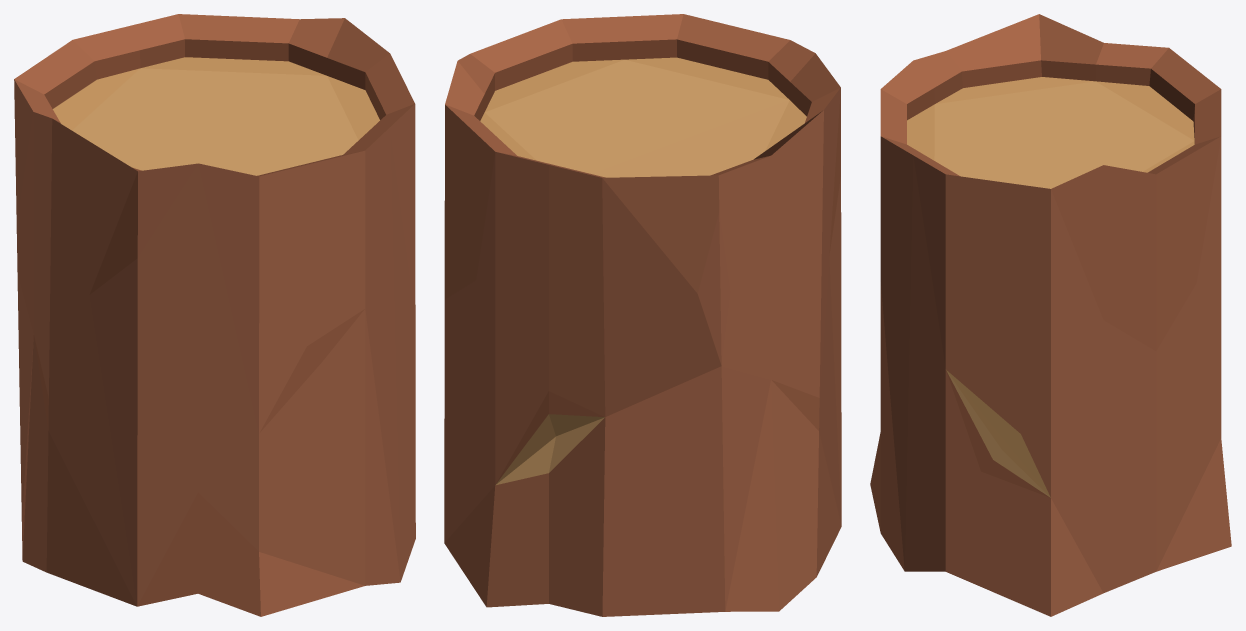
The model's file is W.Log_model.gltf.
3 views of the same model, side by side, from view 1: azimuth 30°, elevation 25°; view 2: azimuth 150°, elevation 25°; view 3: azimuth 270°, elevation 25° (orthographic). The views are drawn at different scales.
Parts seen in each view (by area): view 1: Log; view 2: Log; view 3: Log.
Part boxes in pixels (left/top/right/bottom): Log: left=14, top=14, right=415, bottom=616; Log: left=444, top=14, right=841, bottom=616; Log: left=870, top=14, right=1231, bottom=616.
Bounding box in the file's own units: 0.8926 × 1.17 × 0.8625.
1 material, 1 textured.
